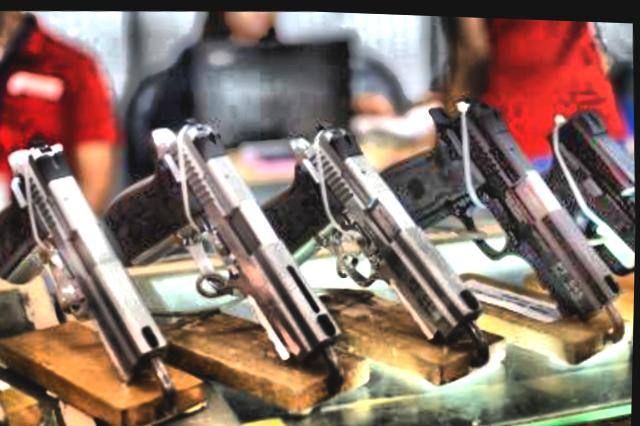pistol: (95, 108, 346, 374), (371, 78, 626, 324), (256, 109, 491, 351), (0, 127, 179, 398), (535, 102, 636, 274)
